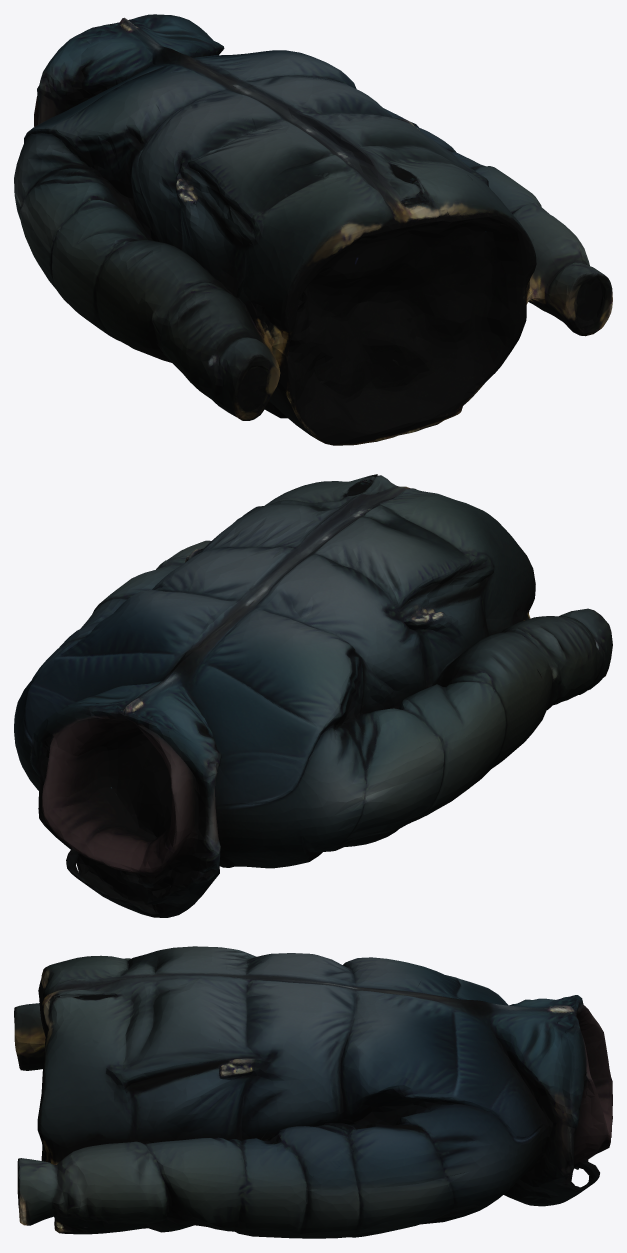
Rendered from puffy-jacket.glb.
3 views of the same model, one above another, from view 1: azimuth 30°, elevation 25°; view 2: azimuth 150°, elevation 25°; view 3: azimuth 270°, elevation 25° (orthographic). The views are drawn at different scales.
Parts seen in each view (by area): view 1: geometry_0.011; view 2: geometry_0.011; view 3: geometry_0.011.
Part boxes in pixels (bbox=[...]): geometry_0.011: bbox=[14, 14, 612, 445]; geometry_0.011: bbox=[14, 474, 612, 917]; geometry_0.011: bbox=[14, 946, 612, 1238].
Bounding box in the file's own units: 0.7432 × 0.4468 × 0.9947.
Materials: 1 (1 with a texture image).
